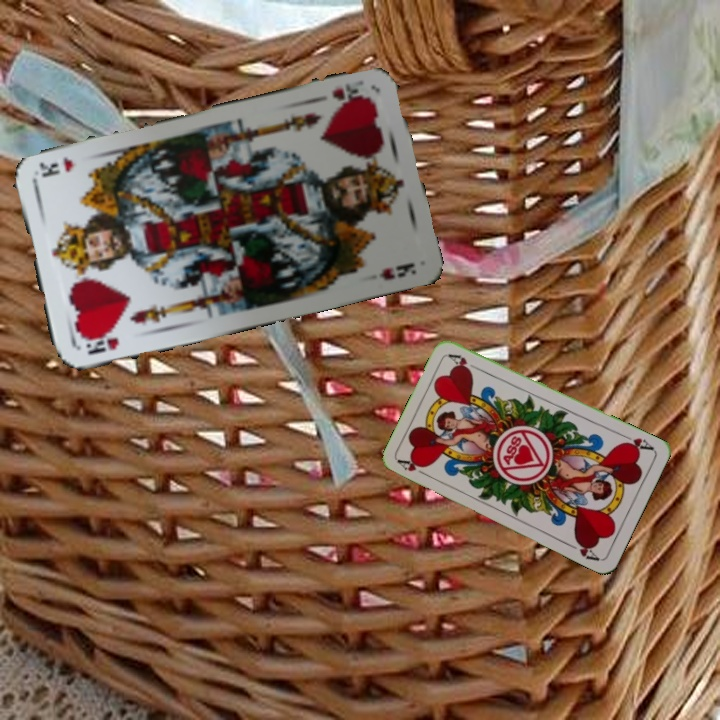HA: (394, 456, 433, 480), (617, 430, 656, 453)
HK: (76, 327, 121, 357), (328, 78, 374, 106)
